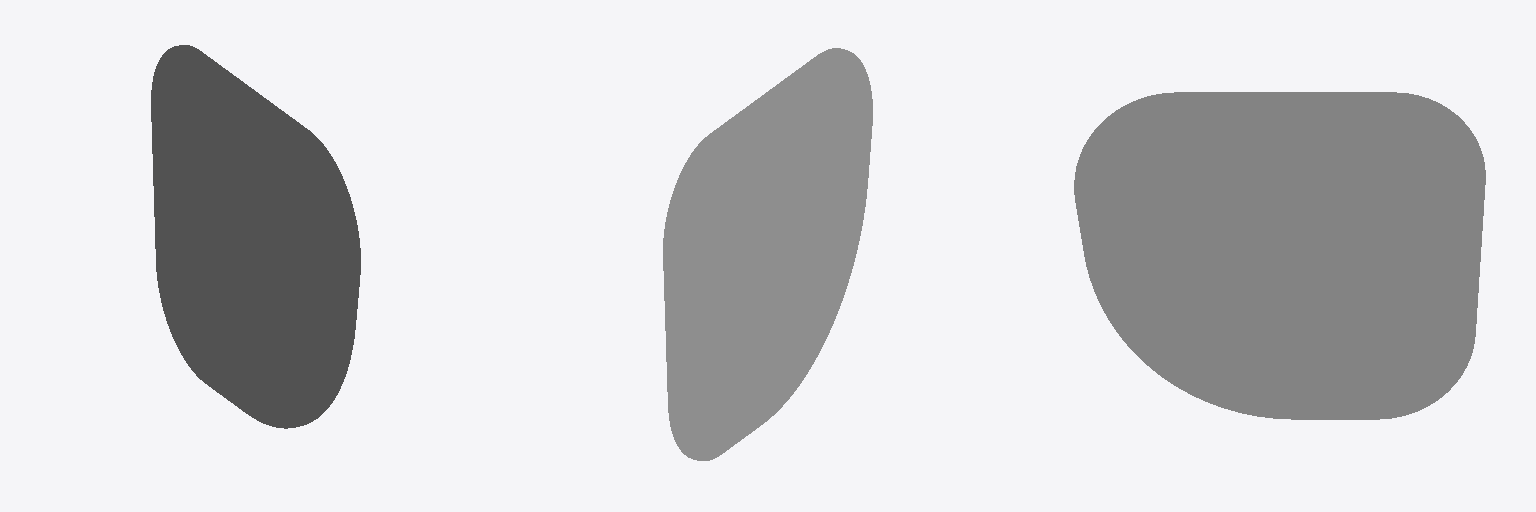
File: lense5.obj
3 views of the same model, side by side, from view 1: azimuth 30°, elevation 25°; view 2: azimuth 150°, elevation 25°; view 3: azimuth 270°, elevation 25° (orthographic).
Bounding box in the file's own units: 0.6 × 43 × 49.32.